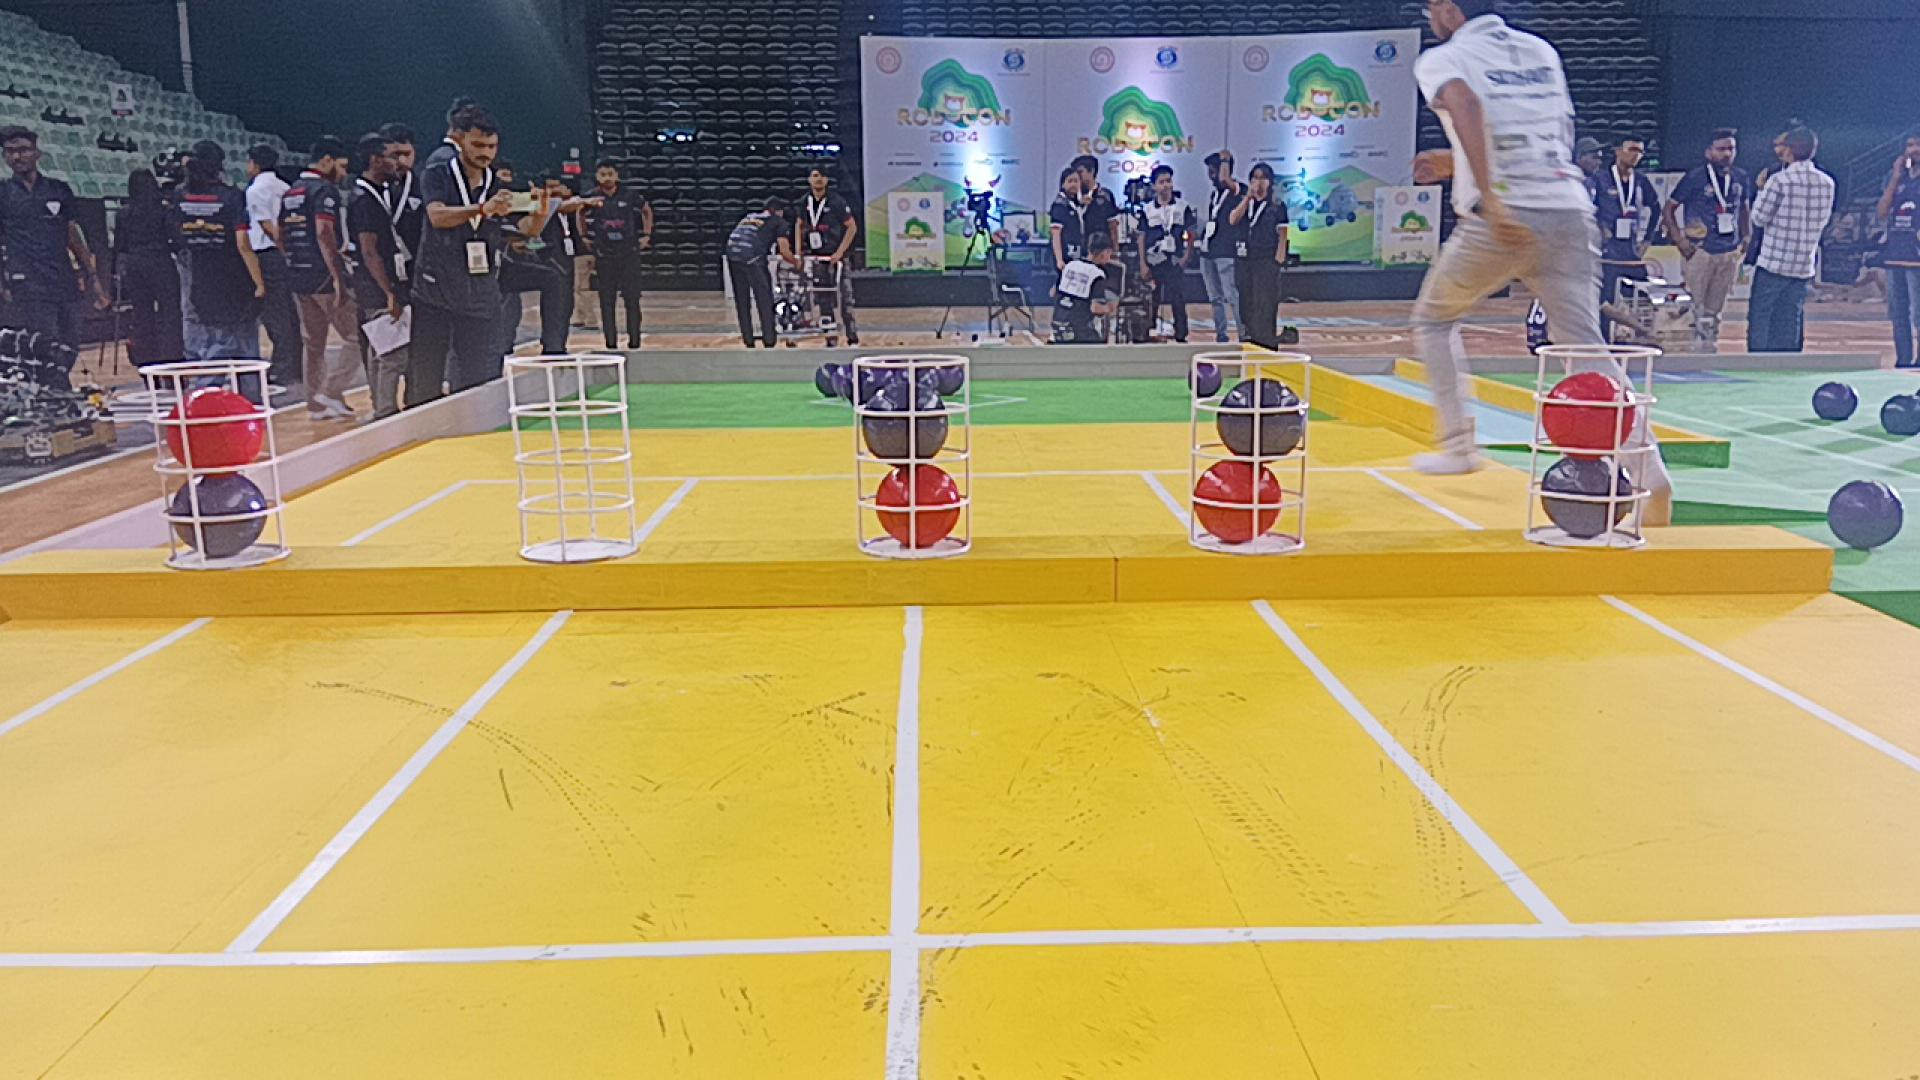dhoka: (169, 472, 266, 559), (1542, 458, 1635, 541), (862, 378, 948, 462), (1218, 378, 1305, 458)
laale: (165, 386, 266, 467), (1192, 462, 1283, 543), (1542, 372, 1635, 448), (877, 465, 964, 547)
